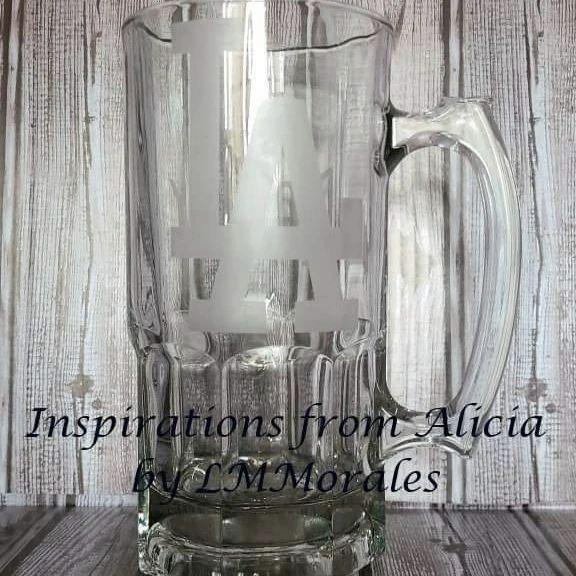glass-mug: (112, 0, 529, 576)
